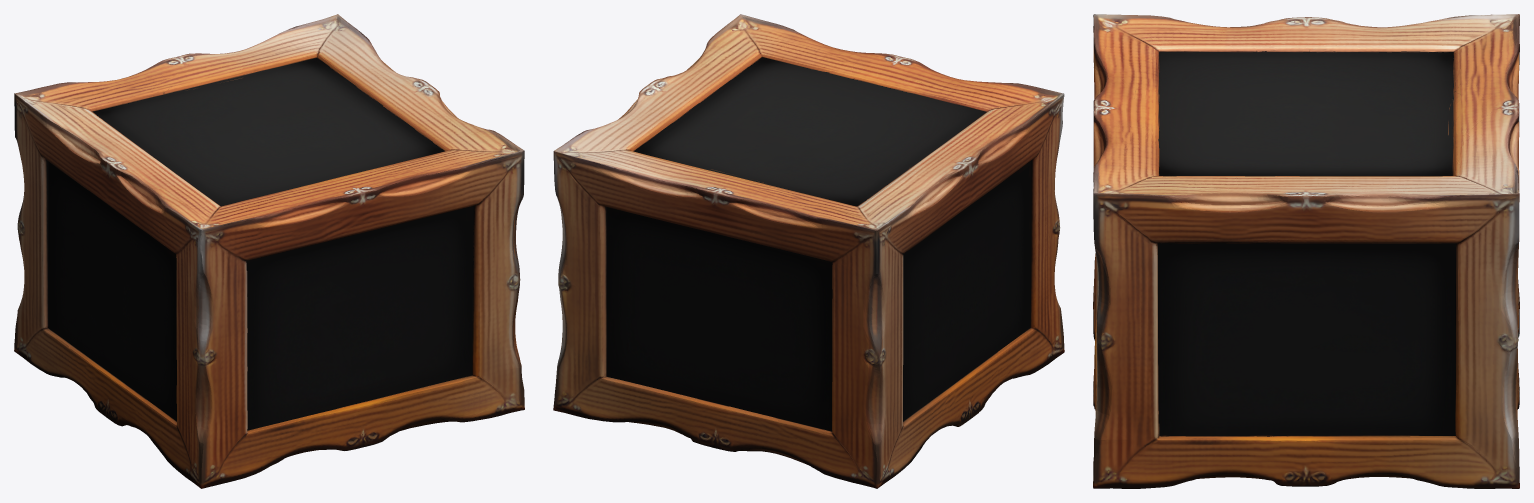
File: wooden-photo-frame-rustic.jpeg.glb
3 views of the same model, side by side, from view 1: azimuth 30°, elevation 25°; view 2: azimuth 150°, elevation 25°; view 3: azimuth 270°, elevation 25° (orthographic). The views are drawn at different scales.
Parts seen in each view (by area): view 1: world; view 2: world; view 3: world.
Boxes of the visible parts, x1,y1,x2,y2 form: world: (14,14,524,488); world: (553,14,1064,488); world: (1093,14,1519,488).
Size of the model in its own units: 1 by 0.7657 by 1.
Materials: 1 (1 with a texture image).
